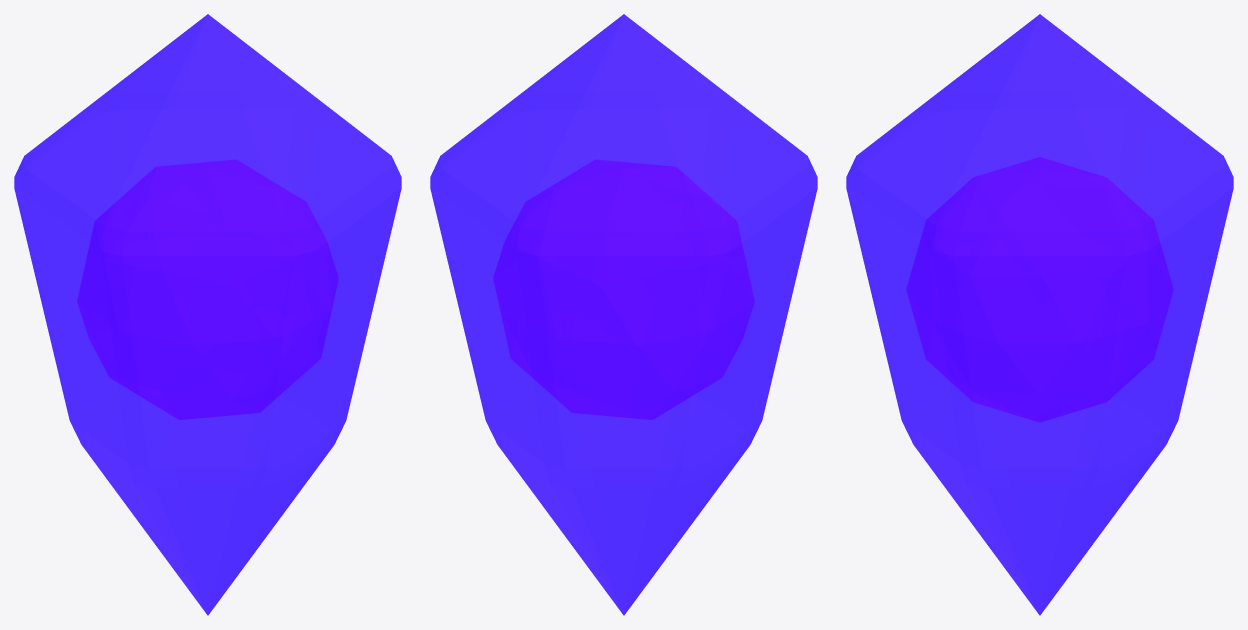
The model's file is poin.xx.t3.fbx.
3 renders of one model, left to right at view 1: azimuth 30°, elevation 25°; view 2: azimuth 150°, elevation 25°; view 3: azimuth 270°, elevation 25°, orthographic.
Visible parts, largest first — view 1: Cube; view 2: Cube; view 3: Cube.
Part boxes in pixels (x1,y1,x2,y2): Cube: (14, 14, 401, 615); Cube: (430, 14, 817, 615); Cube: (846, 14, 1233, 615).
Size of the model in its own units: 2.44 by 4.66 by 2.72.
